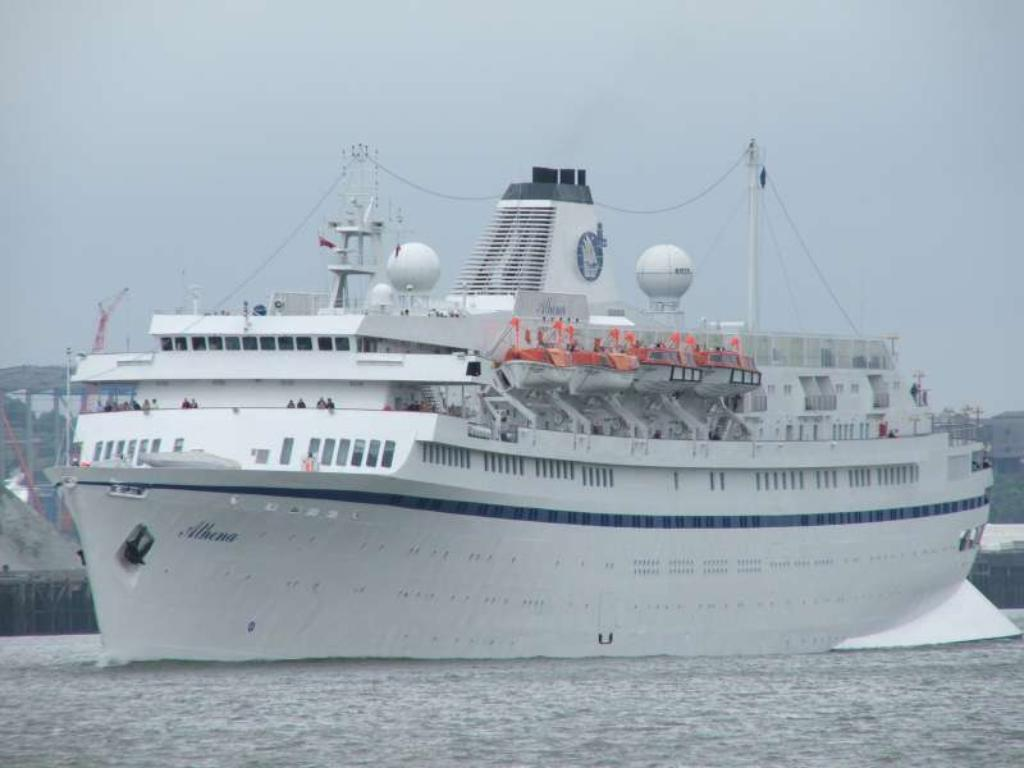PassengerShip: (60, 119, 1008, 675)
